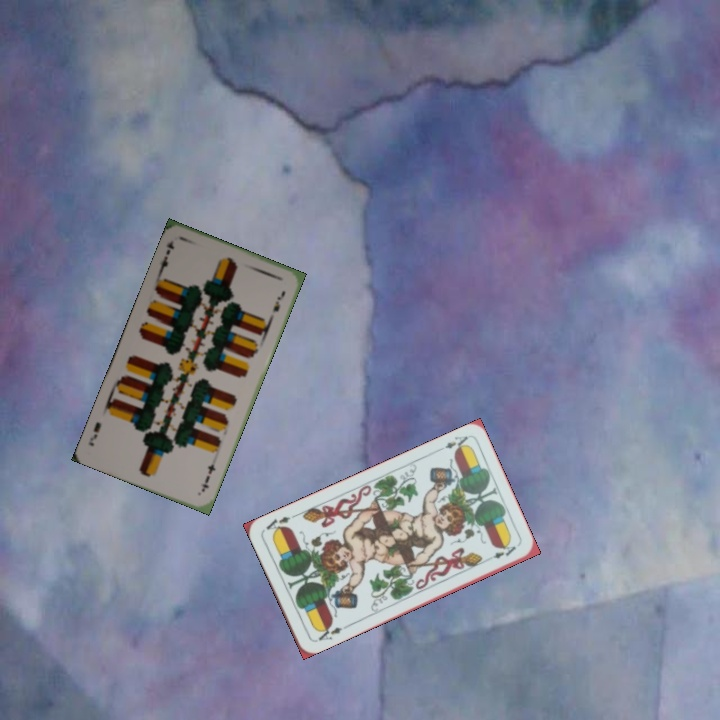E7: (155, 236, 177, 275), (196, 460, 218, 495)
EA: (311, 620, 350, 644), (433, 432, 471, 455)
